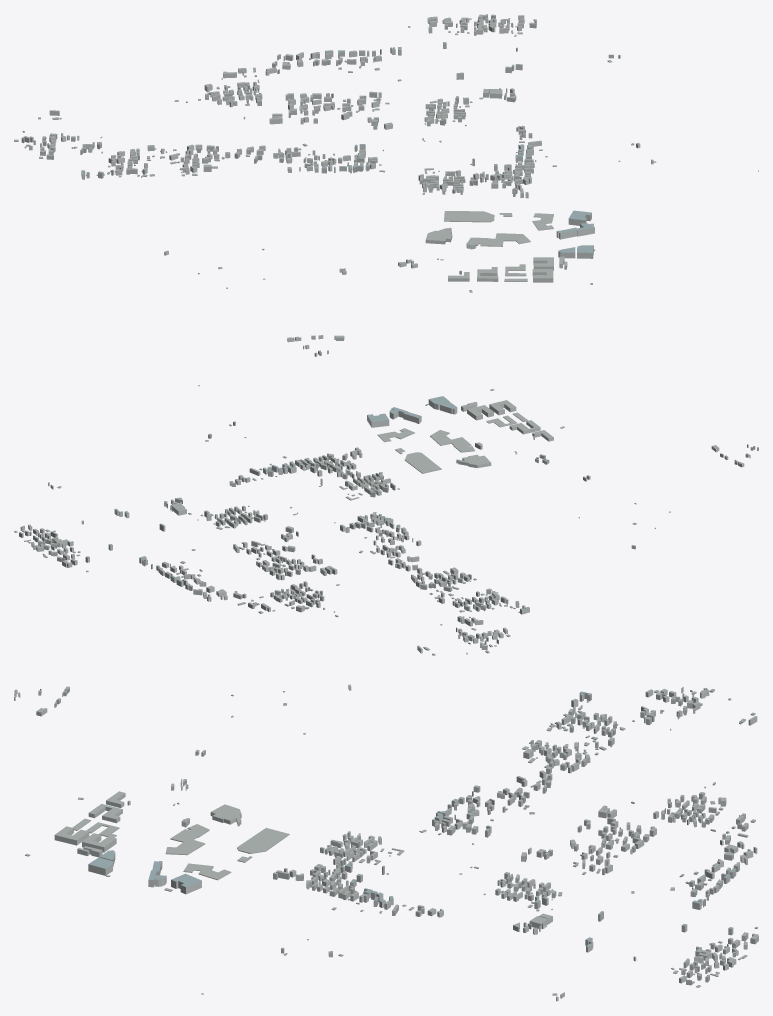
The model's file is far.glb.
3 views of the same model, one above another, from view 1: azimuth 30°, elevation 25°; view 2: azimuth 150°, elevation 25°; view 3: azimuth 270°, elevation 25° (orthographic). The views are drawn at different scales.
Bounding box in the file's own units: 2078 × 25.6 × 2089.
